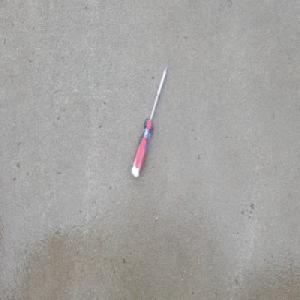Screwdriver: (130, 61, 169, 180)
